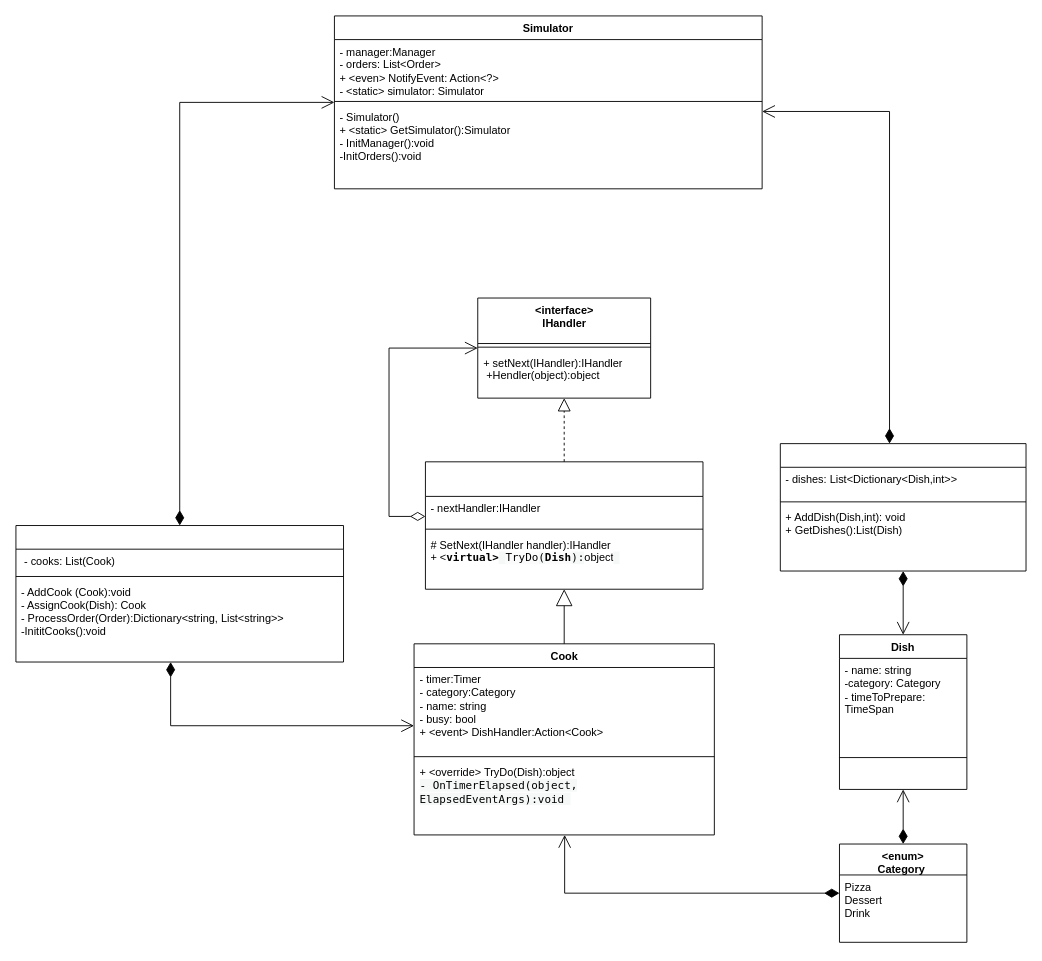
The diagram is 1042 pixels wide and 961 high, and some of its shapes have lost their labels. Each missing label, with the box of its shape:
<abstract> AbstractHandler: (425, 461, 703, 589)
Manager: (15, 525, 344, 662)
Order: (779, 443, 1026, 571)
